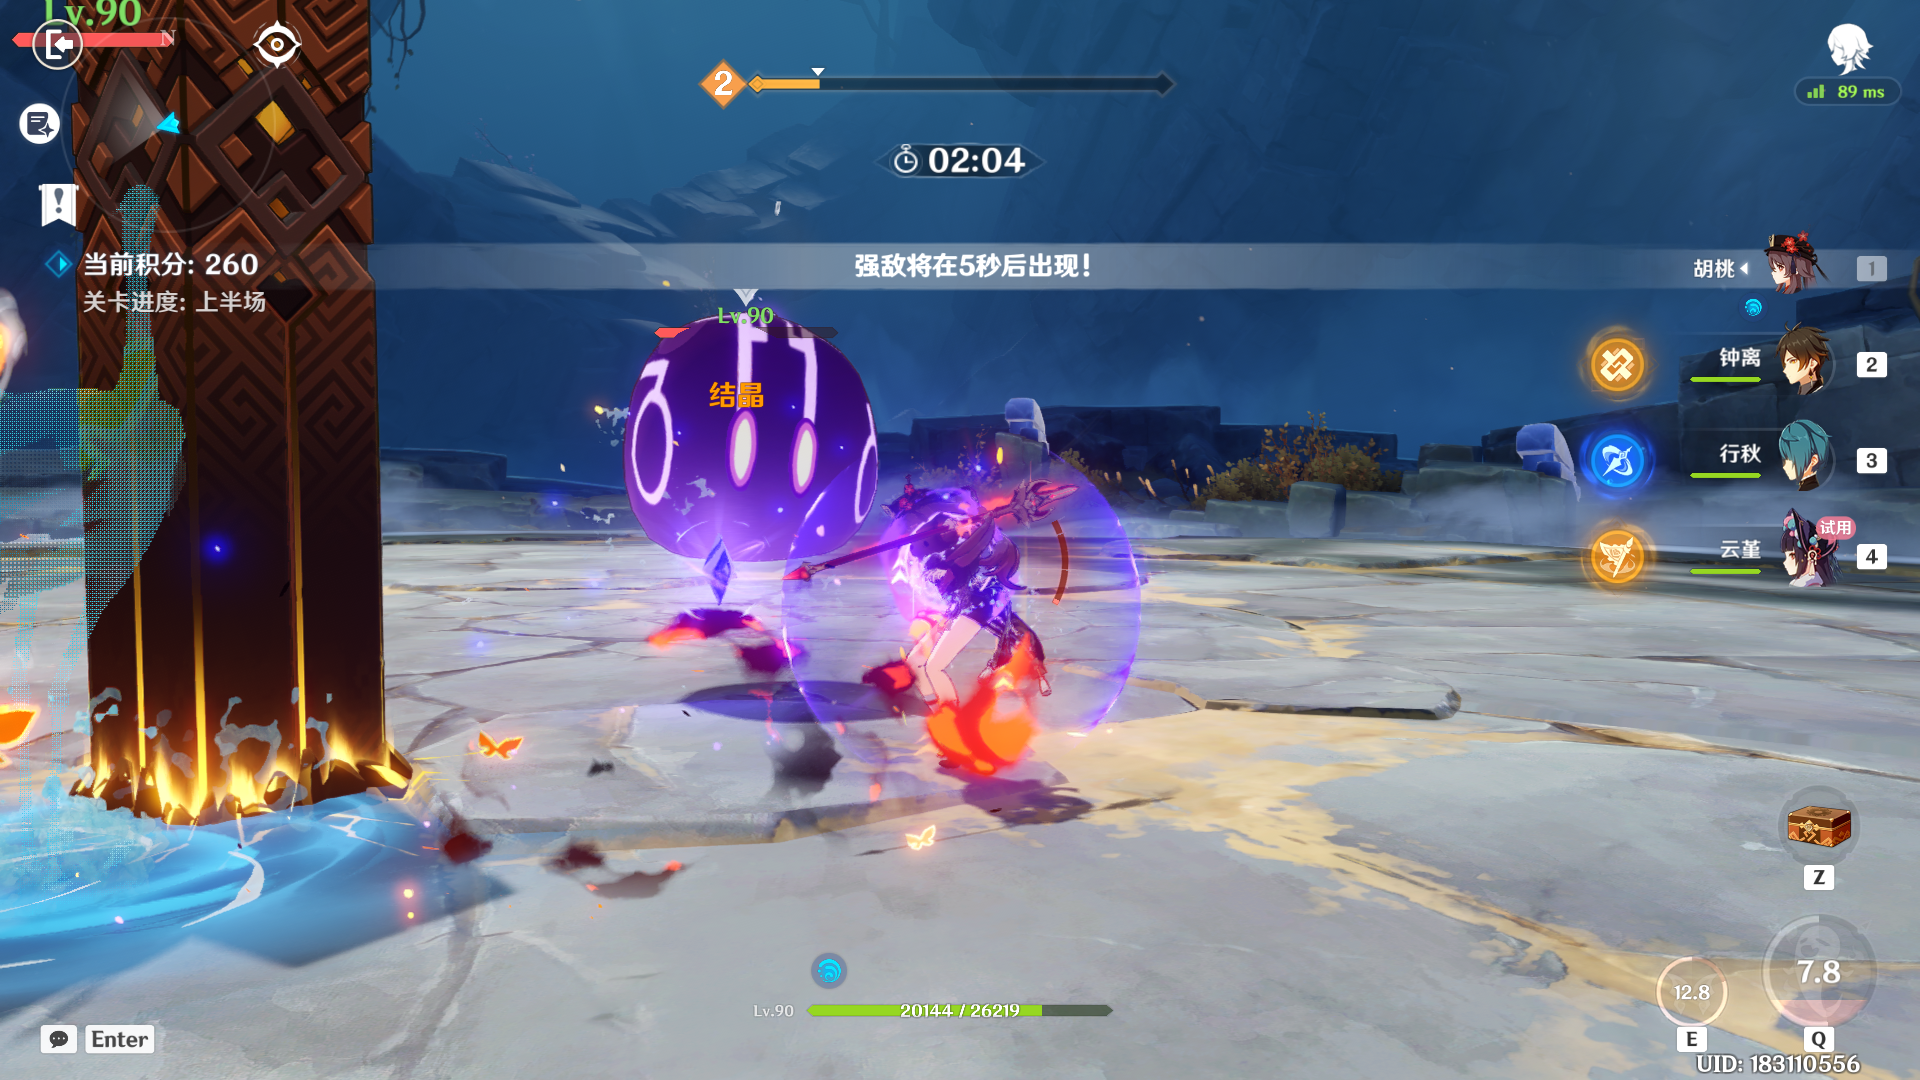character: (855, 463, 1101, 820)
slime: (589, 306, 895, 556)
